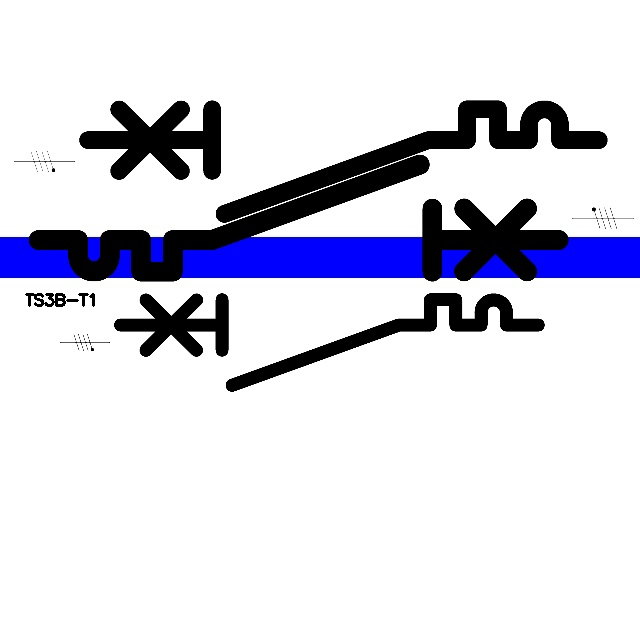interruptor_termomagnetico: (25, 151, 572, 285), (74, 96, 611, 227), (109, 289, 548, 396)
